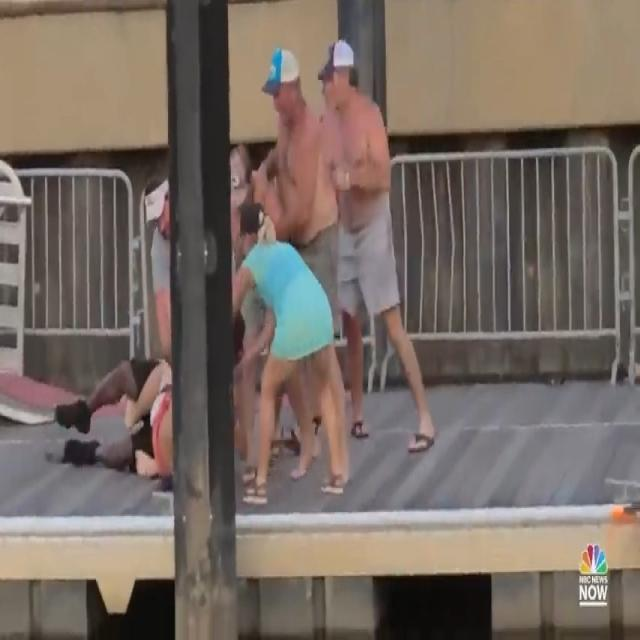fight: (49, 171, 348, 510)
non-fight: (318, 32, 438, 460)
